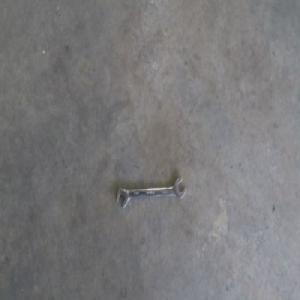Wrench: (117, 176, 185, 205)
